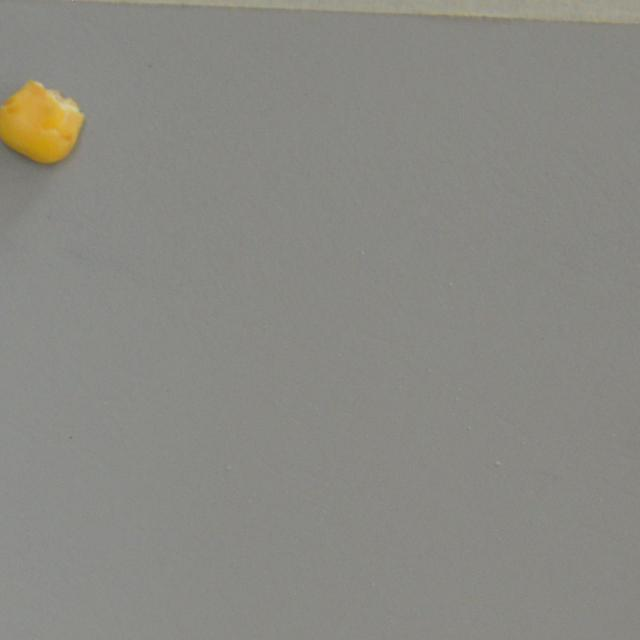no_desgerminado: (0, 77, 86, 168)
